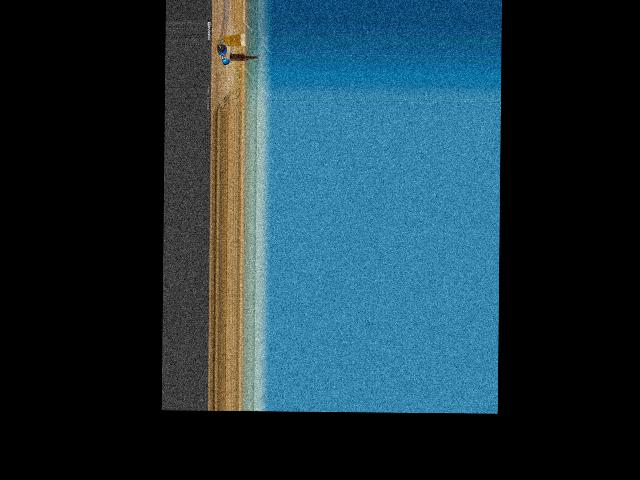beer: (229, 53, 257, 61)
